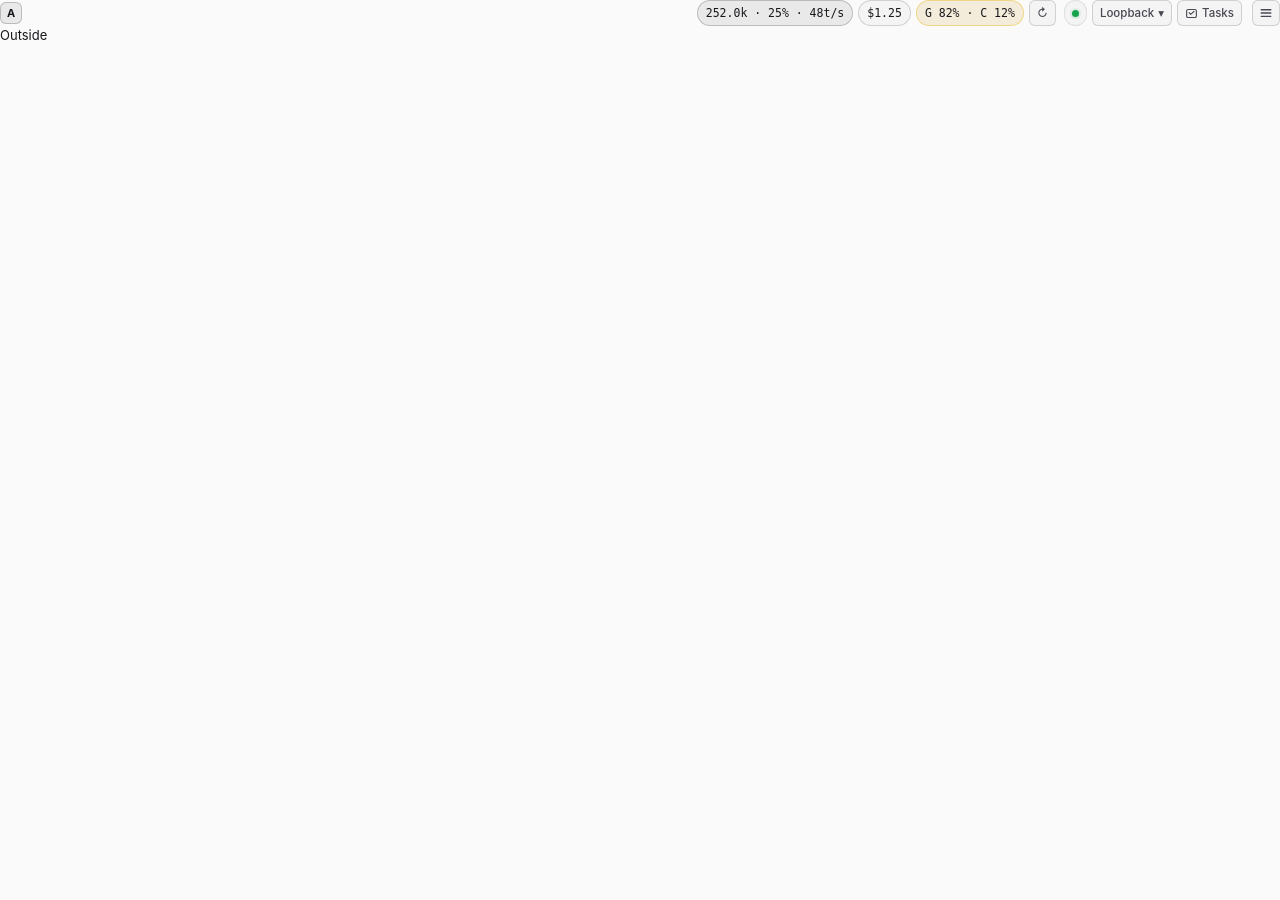
Test: TopbarCapsules popovers & MobileQrPopover › opens Context popover with App-aligned metrics, markers, alerts, /compact, and refresh
The width and height of the screenshot is (1280, 900).
What coordinates should you click on to do the following:
click the button "Context"
I would click on:
 (775, 13)
Its box is [697,0,853,26].
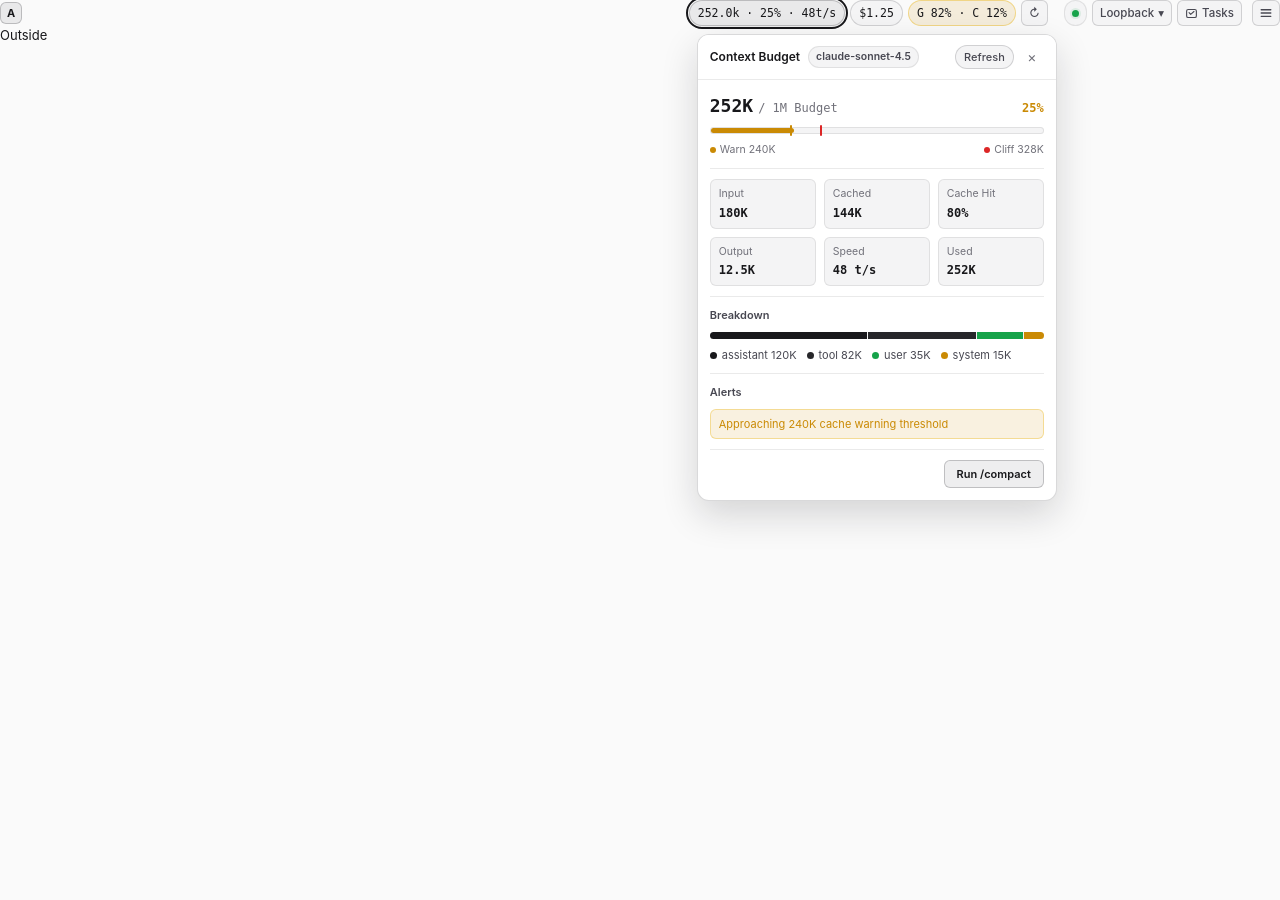
Now the dialog with test id "topbar-popover-context" is shown, box [697,34,1057,501]
Now the text with test id "context-used-value" reads "252K", box [710,95,753,116]
Now the dialog with test id "topbar-popover-context" shows "1M", box [773,101,787,115]
What coordinates should you click on to do the following:
click the button with test id "popover-refresh-context"
I would click on:
 (984, 57)
Its box is [955,45,1014,69].
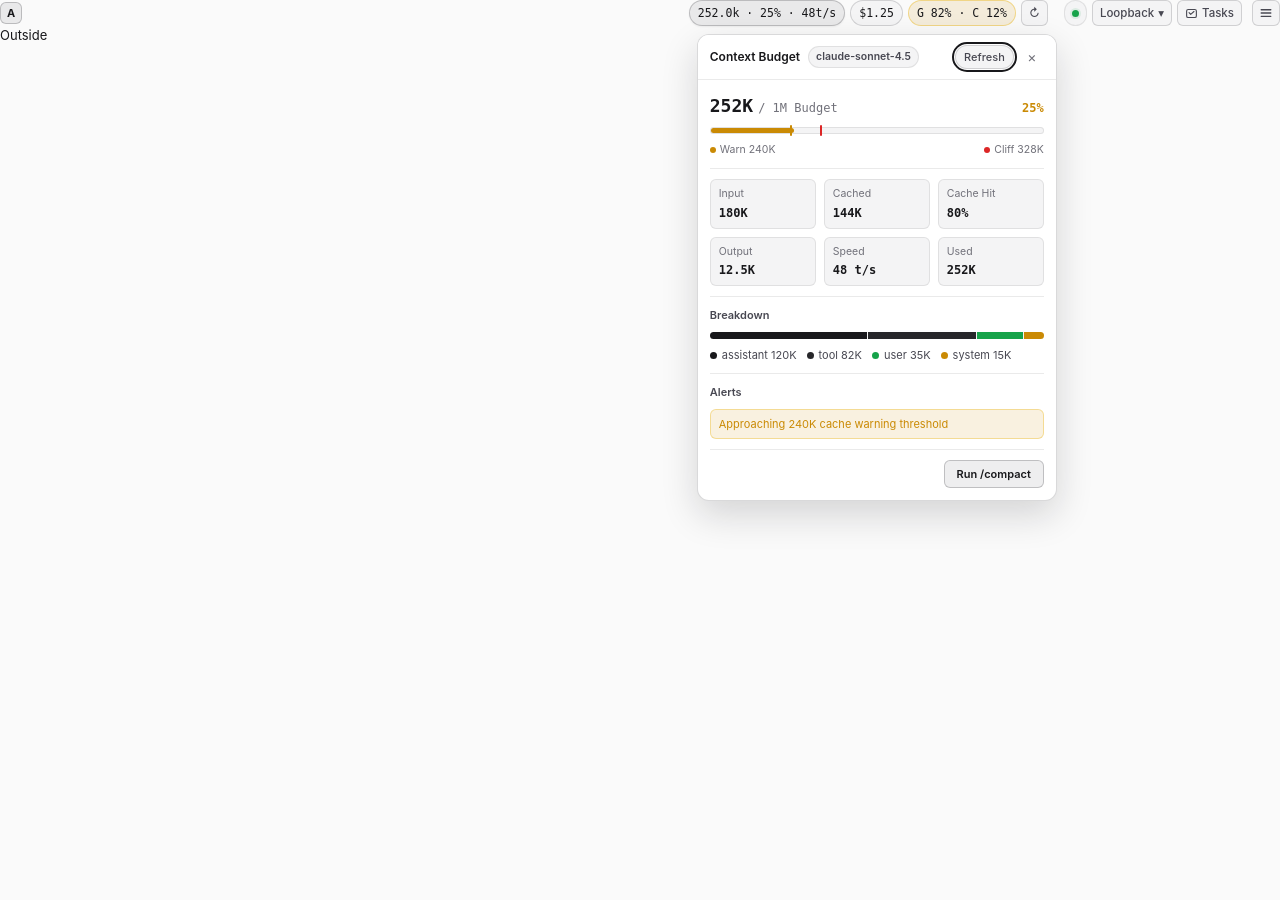
What coordinates should you click on to do the following:
click the button with test id "popover-run-compact-btn"
I would click on:
 (994, 474)
Its box is [944,460,1044,488].
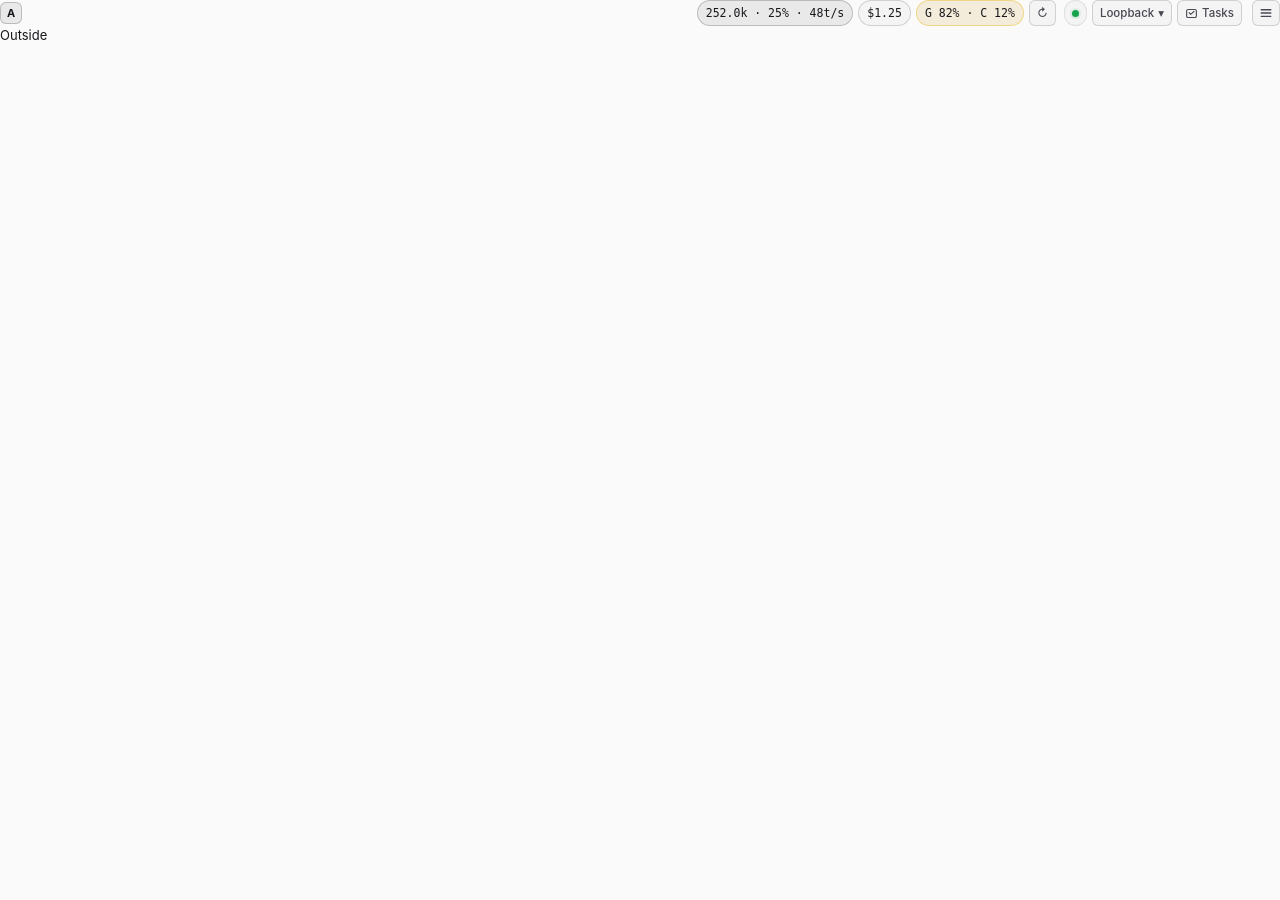
Now the dialog with test id "topbar-popover-context" is gone
